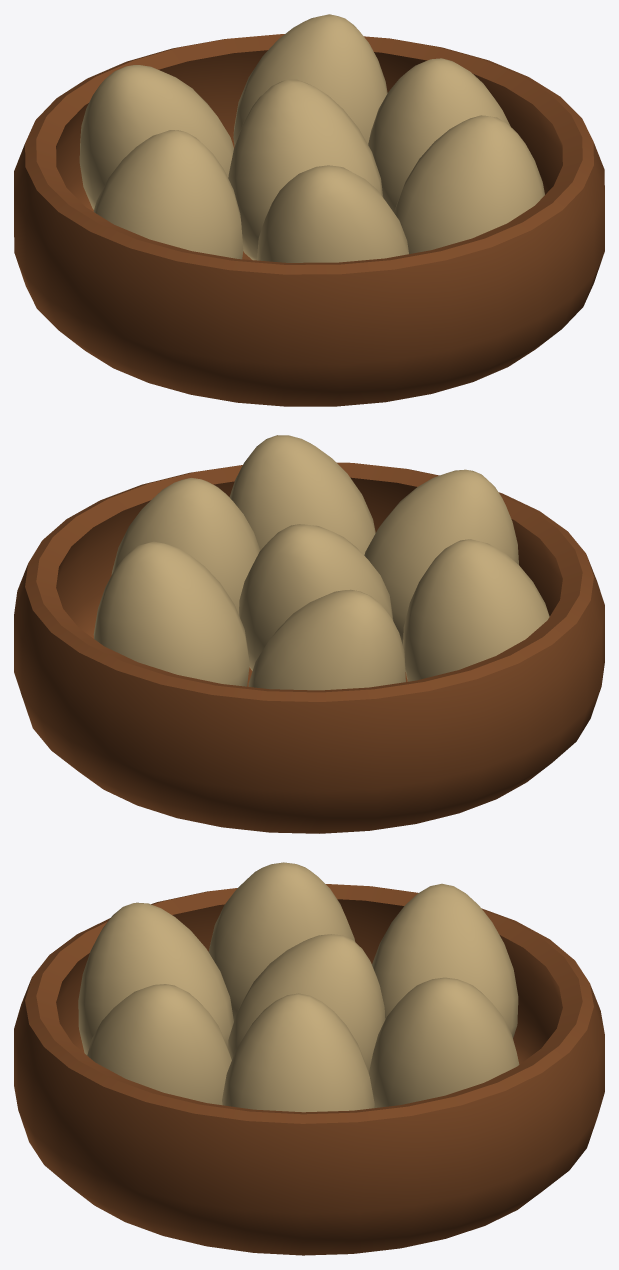
The model's file is TazonHuevos.fbx.
3 renders of one model, top to bottom at view 1: azimuth 30°, elevation 25°; view 2: azimuth 150°, elevation 25°; view 3: azimuth 270°, elevation 25°, orthographic.
Parts seen in each view (by area): view 1: Cylinder.003, Cube.003, Cube.007, Cube.001, Cube.002, Cube, Cube.005, Cube.004; view 2: Cylinder.003, Cube.005, Cube.007, Cube, Cube.002, Cube.003, Cube.001, Cube.004; view 3: Cylinder.003, Cube.005, Cube.004, Cube, Cube.003, Cube.002, Cube.007, Cube.001.
Boxes of the visible parts, x1,y1,x2,y2 form: Cylinder.003: (14, 34, 604, 406); Cube.003: (394, 115, 544, 253); Cube.007: (93, 130, 243, 259); Cube.001: (228, 79, 383, 260); Cube.002: (257, 165, 408, 262); Cube: (79, 65, 233, 209); Cube.005: (233, 14, 387, 146); Cube.004: (368, 58, 510, 212); Cylinder.003: (14, 462, 604, 833); Cube.005: (93, 541, 249, 686); Cube.007: (403, 539, 549, 681); Cube: (248, 589, 405, 690); Cube.002: (364, 469, 518, 645); Cube.003: (229, 435, 375, 554); Cube.001: (239, 524, 393, 670); Cube.004: (111, 478, 260, 614); Cylinder.003: (14, 884, 604, 1255); Cube.005: (368, 977, 519, 1107); Cube.004: (222, 993, 374, 1112); Cube: (372, 883, 518, 1037); Cube.003: (87, 984, 231, 1104); Cube.002: (78, 902, 233, 1055); Cube.007: (208, 862, 355, 1020); Cube.001: (228, 934, 385, 1072).
Bounding box in the file's own units: 138 × 54.66 × 138.
